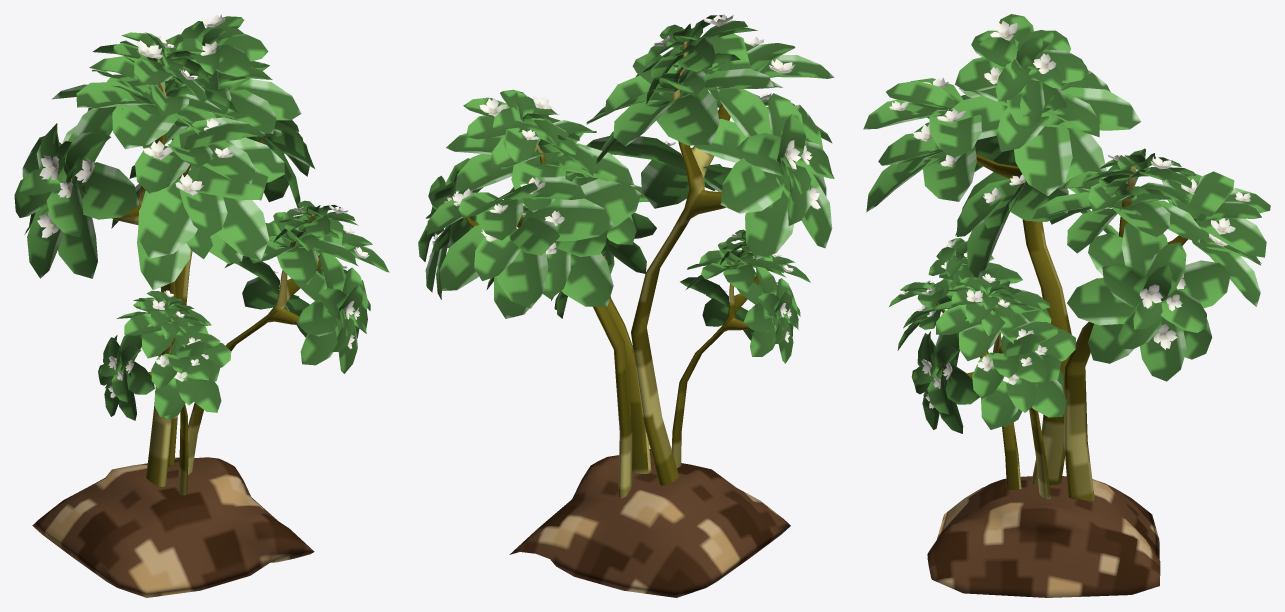
Rendered from Elderberry Stage 2 New.fbx.
3 views of the same model, side by side, from view 1: azimuth 30°, elevation 25°; view 2: azimuth 150°, elevation 25°; view 3: azimuth 270°, elevation 25° (orthographic). The views are drawn at different scales.
Parts seen in each view (by area): view 1: Elderberry_Stage7; view 2: Elderberry_Stage7; view 3: Elderberry_Stage7.
Boxes of the visible parts, bbox=[...] form: Elderberry_Stage7: bbox=[14, 14, 389, 597]; Elderberry_Stage7: bbox=[418, 14, 834, 597]; Elderberry_Stage7: bbox=[863, 14, 1270, 597].
Bounding box in the file's own units: 25.07 × 37.2 × 27.11.
Materials: 1 (1 with a texture image).
